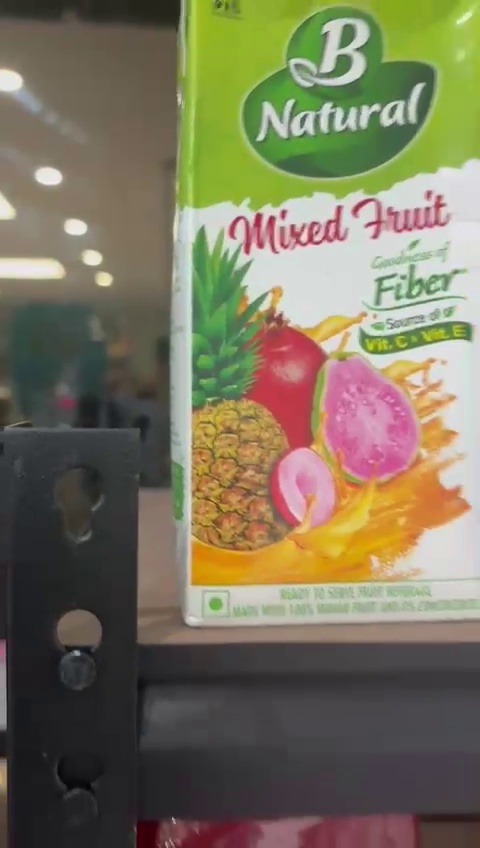Mixed Fruit: (182, 0, 480, 624)
